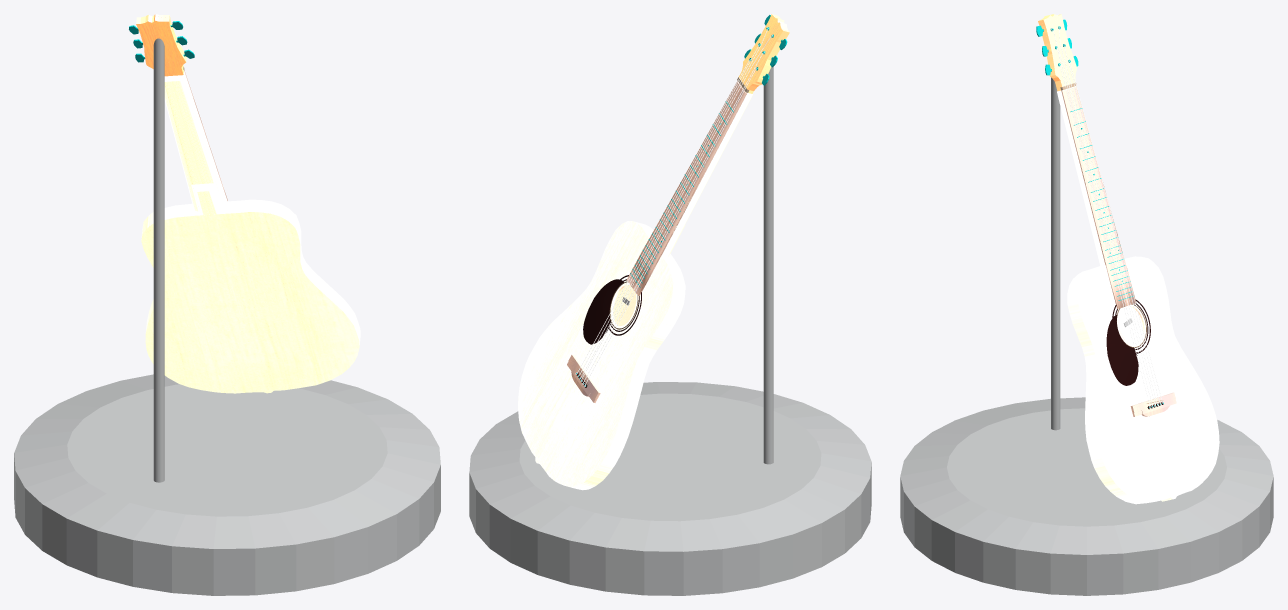
File: guitar.glb
The picture shows the model from 3 angles, left to right: view 1: azimuth 30°, elevation 25°; view 2: azimuth 150°, elevation 25°; view 3: azimuth 270°, elevation 25°; orthographic projection. The views are drawn at different scales.
Parts seen in each view (by area): view 1: Cylinder.035, Plane, Bovenkant; view 2: Cylinder.035, Plane, Snaarding, Snaren, Bovenkant, Cube.025, SnaarEindes, snaarConnectDing; view 3: Cylinder.035, Plane, Snaarding, Snaren, Bovenkant, Cube.025, SnaarEindes, snaarConnectDing.
Boxes of the visible parts, x1,y1,x2,y2 form: Cylinder.035: [14, 38, 440, 595]; Plane: [141, 71, 360, 393]; Bovenkant: [136, 14, 186, 76]; Cylinder.035: [469, 67, 871, 595]; Plane: [518, 93, 752, 490]; Snaarding: [627, 81, 747, 295]; Snaren: [575, 27, 772, 386]; Bovenkant: [739, 14, 789, 93]; Cube.025: [583, 279, 623, 344]; SnaarEindes: [578, 27, 773, 387]; snaarConnectDing: [567, 354, 600, 402]; Cylinder.035: [900, 77, 1273, 595]; Plane: [1057, 90, 1219, 504]; Snaarding: [1061, 86, 1136, 308]; Snaren: [1051, 26, 1163, 408]; Bovenkant: [1038, 14, 1076, 91]; Cube.025: [1106, 315, 1138, 385]; SnaarEindes: [1050, 26, 1163, 408]; snaarConnectDing: [1130, 392, 1176, 416].
Size of the model in its own units: 4.15 by 5.68 by 4.15.
